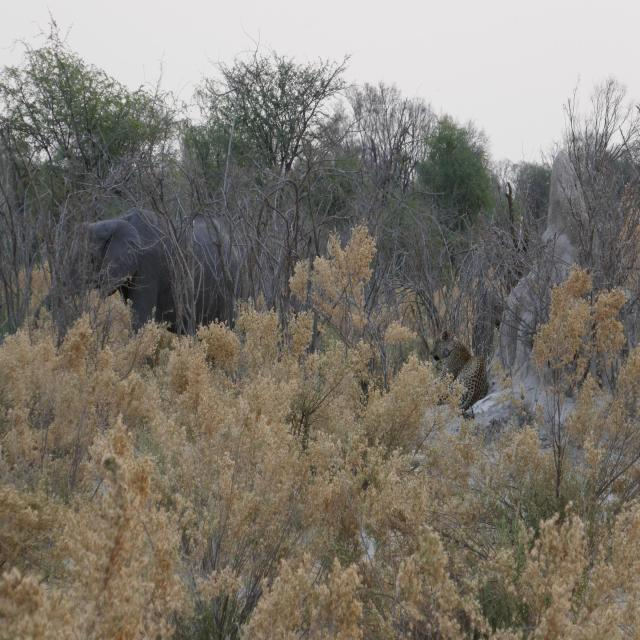Leopard: (429, 334, 487, 414)
